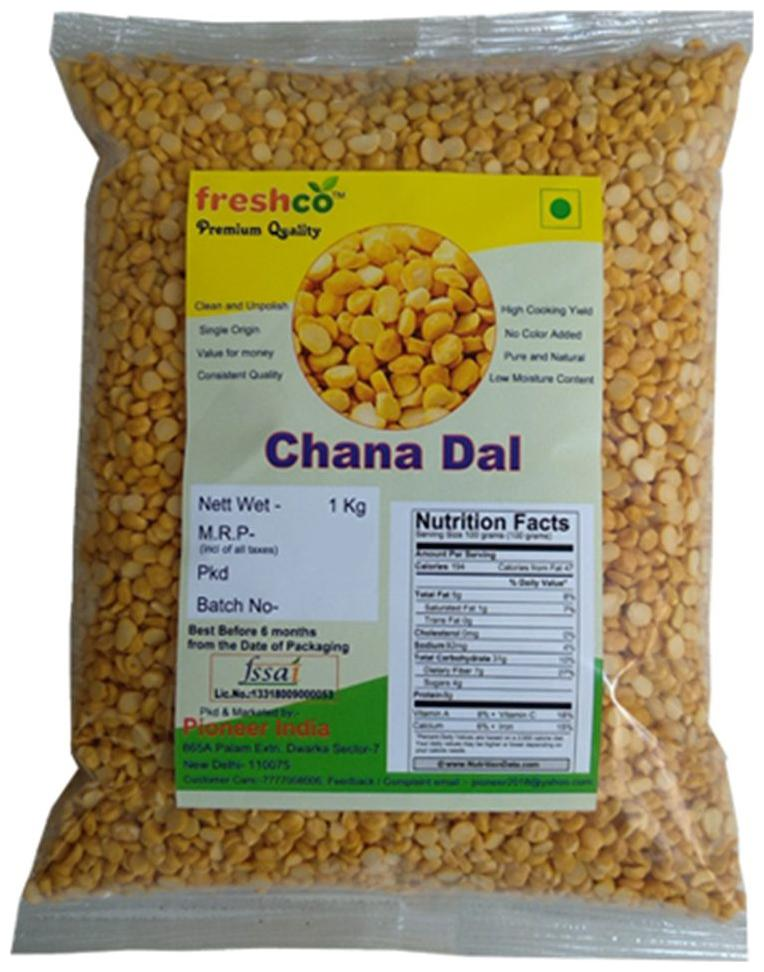fssai: (236, 656, 304, 687)
